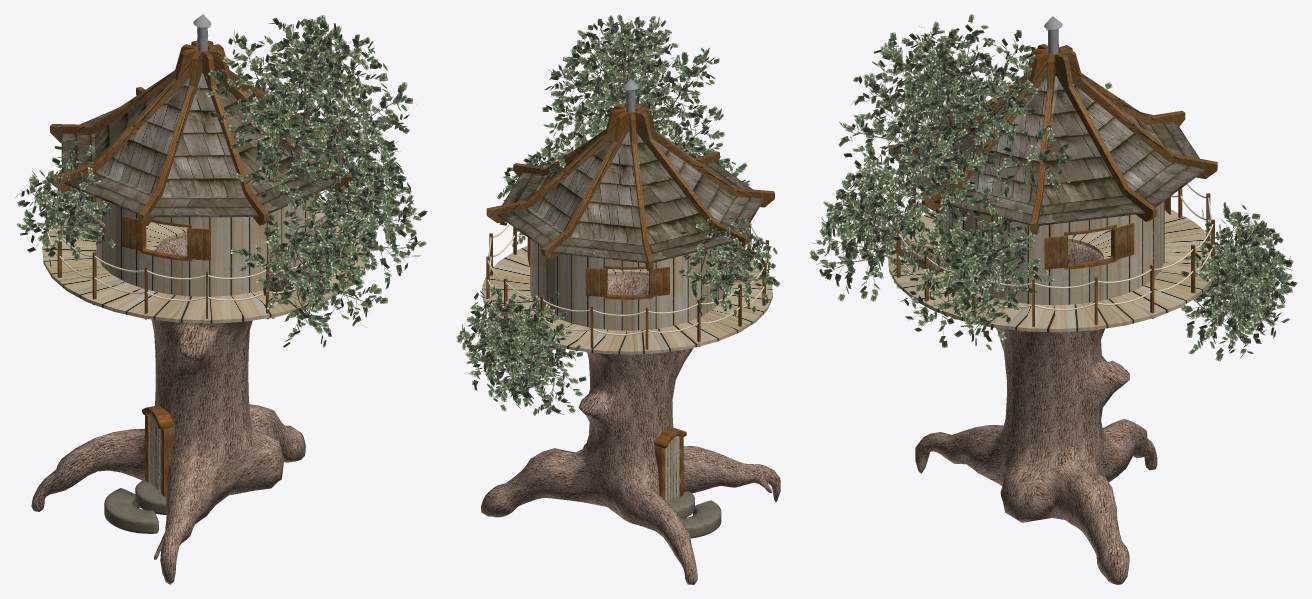
3 renders of one model, left to right at view 1: azimuth 30°, elevation 25°; view 2: azimuth 150°, elevation 25°; view 3: azimuth 270°, elevation 25°, orthographic. The views are drawn at different scales.
Visible parts, largest first — view 1: trunk, Foliage05, roof 01, Foliage03, walls, floor, roof 02, Foliage02, Foliage04, step 01, door frame, ropes (+6 smaller); view 2: trunk, roof 01, Foliage05, walls, roof 02, floor, Foliage02, Foliage006, Foliage01, Foliage007, poles, ropes (+9 smaller); view 3: trunk, Foliage05, roof 01, floor, Foliage04, walls, roof 02, Foliage03, Foliage01, Foliage006, Foliage007, poles (+3 smaller).
Part boxes in pixels (x1,y1,x2,y2): trunk: (31, 206, 347, 584); Foliage05: (206, 15, 417, 217); roof 01: (61, 73, 343, 217); Foliage03: (231, 192, 387, 347); walls: (96, 194, 315, 296); floor: (42, 205, 369, 323); roof 02: (50, 40, 354, 225); Foliage02: (15, 141, 115, 267); Foliage04: (313, 138, 427, 288); step 01: (104, 488, 158, 533); door frame: (142, 405, 174, 496); ropes: (47, 188, 364, 301); trunk: (481, 269, 780, 584); roof 01: (498, 131, 763, 263); Foliage05: (530, 14, 724, 178); walls: (530, 239, 725, 330); roof 02: (486, 103, 774, 270); floor: (482, 245, 772, 354); Foliage02: (678, 217, 780, 317); Foliage006: (467, 291, 583, 405); Foliage01: (456, 285, 552, 398); Foliage007: (486, 330, 586, 415); poles: (486, 222, 768, 354); ropes: (487, 222, 767, 335); trunk: (883, 240, 1223, 584); Foliage05: (838, 14, 1074, 236); roof 01: (904, 76, 1204, 225); floor: (888, 208, 1217, 332); Foliage04: (900, 203, 1054, 350); walls: (942, 201, 1164, 305); roof 02: (889, 44, 1217, 234); Foliage03: (809, 152, 939, 301); Foliage01: (1181, 217, 1292, 343); Foliage006: (1183, 202, 1297, 323); Foliage007: (1180, 237, 1276, 361); poles: (893, 184, 1214, 332).
Bounding box in the file's own units: 1133 × 1579 × 1320.
